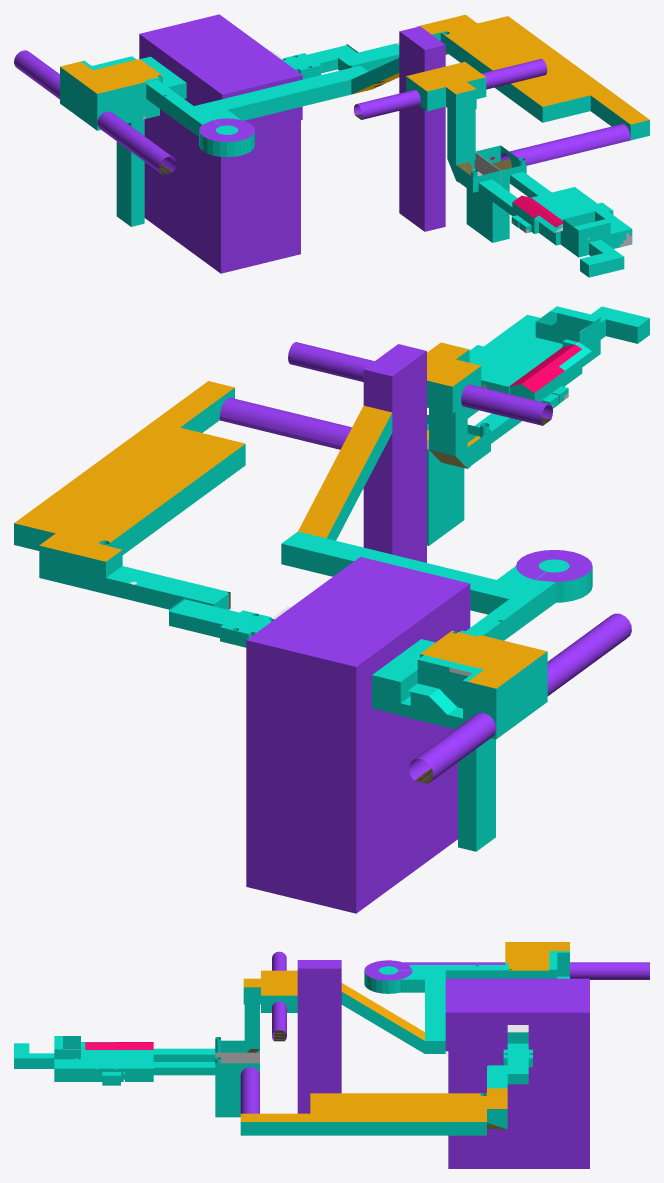
The model's file is kcl.obj.
The picture shows the model from 3 angles, top to bottom: view 1: azimuth 30°, elevation 25°; view 2: azimuth 150°, elevation 25°; view 3: azimuth 270°, elevation 25°; orthographic projection. The views are drawn at different scales.
Visible parts, largest first — view 1: TRACK_KCL_v3-SKP--Wall_rock, TRACK_KCL_v3-SKP--Wall, TRACK_KCL_v3-SKP--Road, TRACK_KCL_v3-SKP--Wall_wood; view 2: TRACK_KCL_v3-SKP--Wall_rock, TRACK_KCL_v3-SKP--Wall, TRACK_KCL_v3-SKP--Road, TRACK_KCL_v3-SKP--Wall_wood; view 3: TRACK_KCL_v3-SKP--Wall_rock, TRACK_KCL_v3-SKP--Wall, TRACK_KCL_v3-SKP--Road, TRACK_KCL_v3-SKP--Wall_wood, TRACK_KCL_v3-SKP--FallBoundary.
Boxes of the visible parts, bbox=[...] form: TRACK_KCL_v3-SKP--Wall_rock: bbox=[14, 14, 630, 273]; TRACK_KCL_v3-SKP--Wall: bbox=[60, 31, 649, 277]; TRACK_KCL_v3-SKP--Road: bbox=[60, 14, 649, 124]; TRACK_KCL_v3-SKP--Wall_wood: bbox=[490, 156, 562, 227]; TRACK_KCL_v3-SKP--Wall_rock: bbox=[219, 342, 631, 913]; TRACK_KCL_v3-SKP--Wall: bbox=[14, 306, 649, 851]; TRACK_KCL_v3-SKP--Road: bbox=[14, 342, 546, 688]; TRACK_KCL_v3-SKP--Wall_wood: bbox=[509, 344, 581, 392]; TRACK_KCL_v3-SKP--Wall_rock: bbox=[240, 951, 649, 1168]; TRACK_KCL_v3-SKP--Wall: bbox=[14, 951, 569, 1135]; TRACK_KCL_v3-SKP--Road: bbox=[240, 942, 569, 1121]; TRACK_KCL_v3-SKP--Wall_wood: bbox=[85, 1042, 153, 1049]; TRACK_KCL_v3-SKP--FallBoundary: bbox=[215, 1052, 259, 1063].
Bounding box in the file's own units: 47701 × 29486 × 75691.
